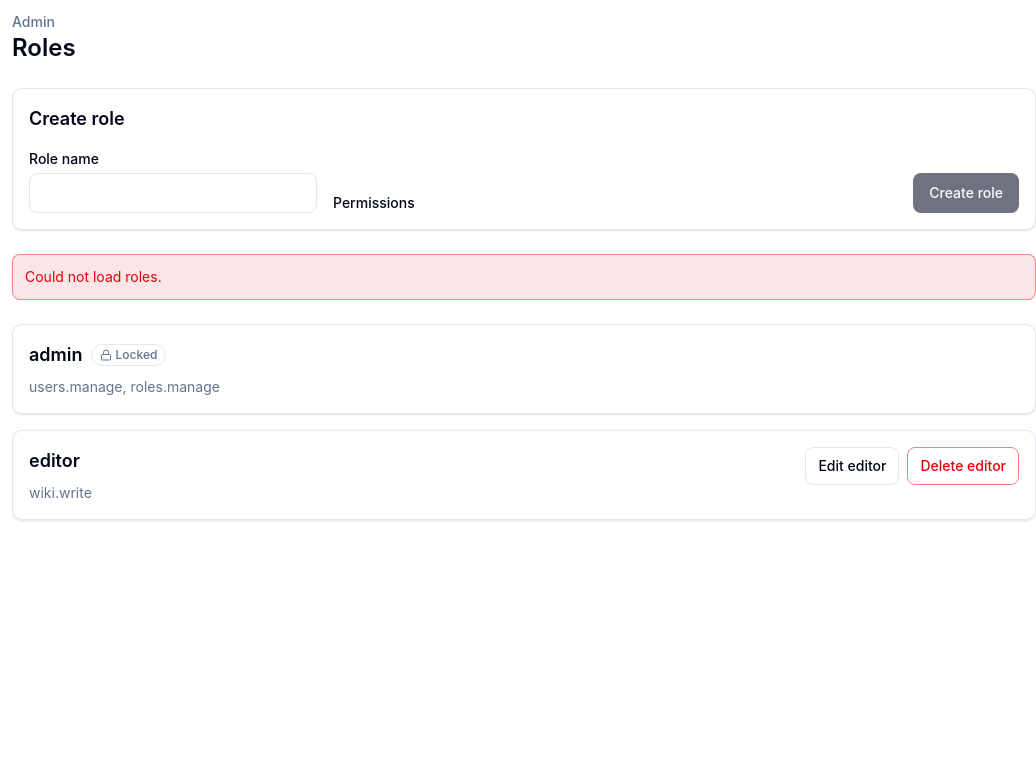
Test: RolesPage › blocks role edits when the permissions catalog fails to load
This screenshot has width=1036, height=780.
Click the button "Edit editor" at point(852, 466), box [805,447,899,485]
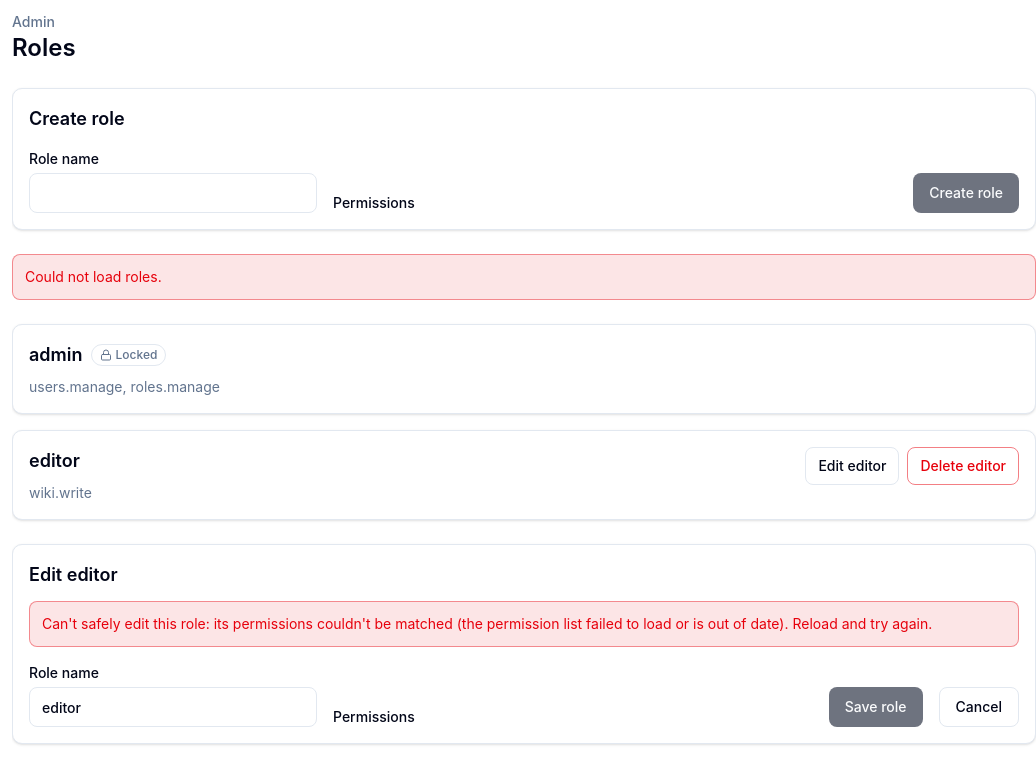
Expected: the button "Save role" is disabled, [829,687,922,727]
Expected: the text "Can't safely edit this role" is shown, [42,615,932,632]
